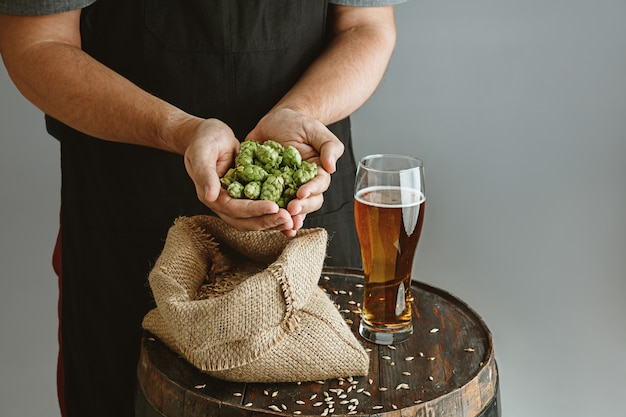alcohol: (353, 150, 426, 344)
